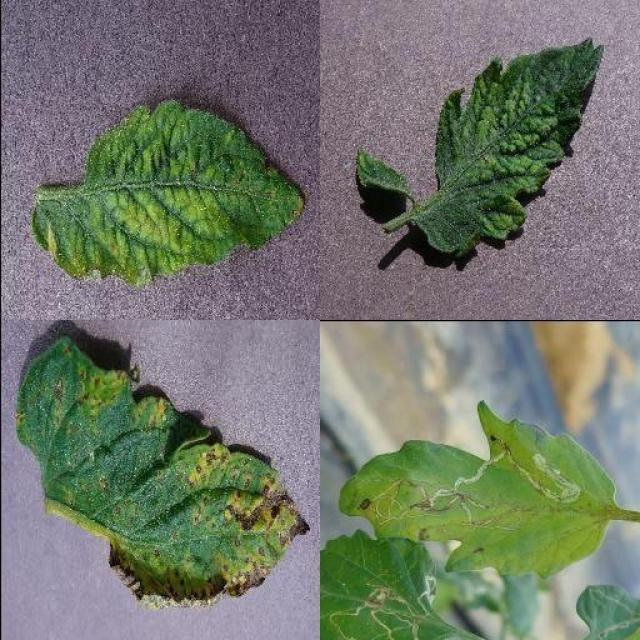Septoria: (15, 335, 313, 607)
